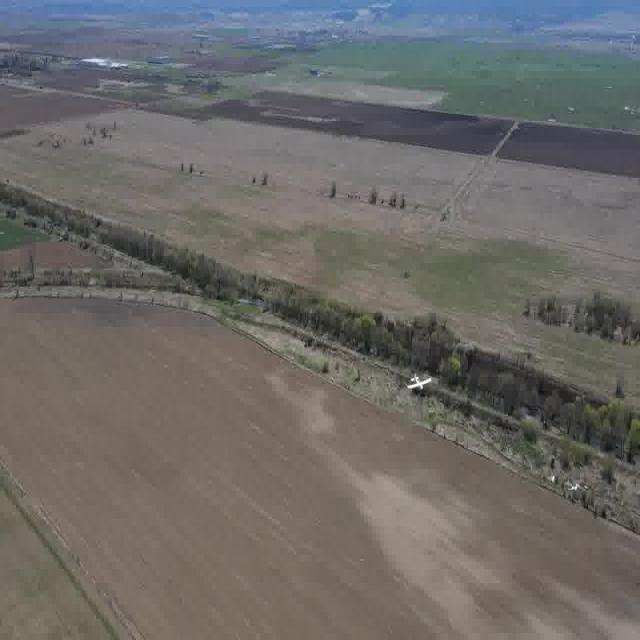iha: (404, 366, 434, 400)
